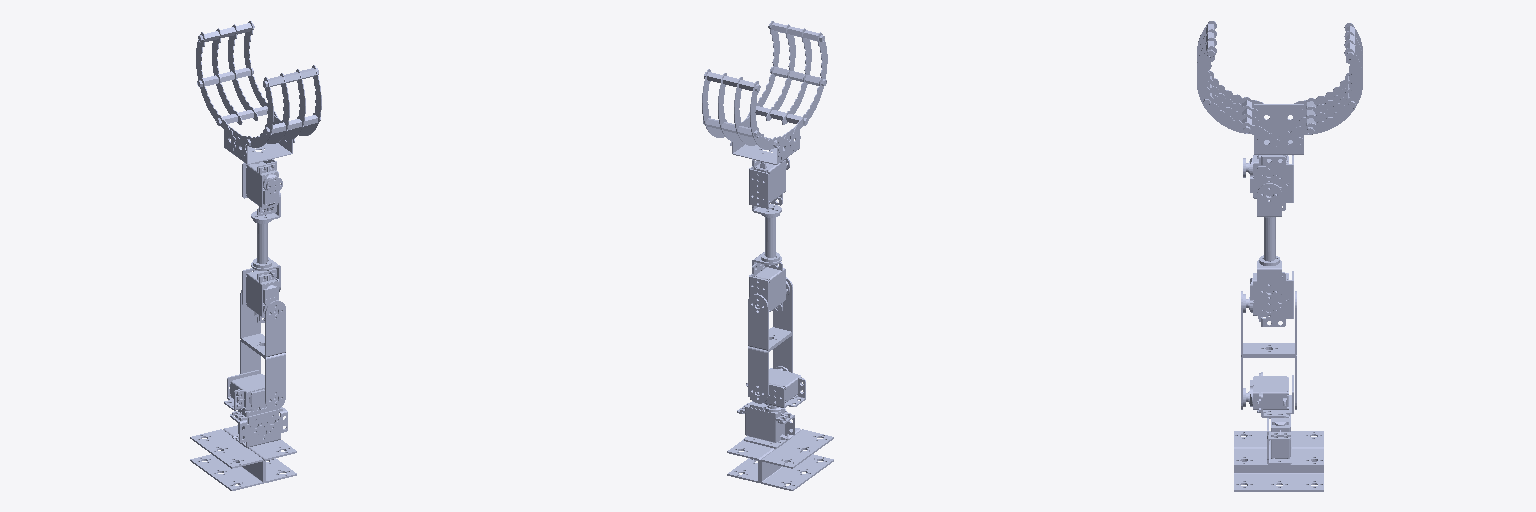
URDF robot description (reclaim_arm):
<?xml version="1.0" encoding="utf-8"?>
<!-- This URDF was automatically created by SolidWorks to URDF Exporter! Originally created by Stephen Brawner (brawner@gmail.com) 
     Commit Version: 1.6.0-4-g7f85cfe  Build Version: 1.6.7995.38578
     For more information, please see http://wiki.ros.org/sw_urdf_exporter -->
<robot
  name="reclaim_arm">
  <link
    name="base_link">
    <inertial>
      <origin
        xyz="0.00060581 -0.001246 -0.046464"
        rpy="0 0 0" />
      <mass
        value="0.07337" />
      <inertia
        ixx="3.2568E-05"
        ixy="5.8892E-09"
        ixz="3.9477E-08"
        iyy="1.9034E-05"
        iyz="1.6679E-07"
        izz="3.754E-05" />
    </inertial>
    <visual>
      <origin
        xyz="0 0 0"
        rpy="-1.5708 0 0" />
      <geometry>
        <mesh
          filename="meshes/base_link.STL" />
      </geometry>
      <material
        name="">
        <color
          rgba="0.79216 0.81961 0.93333 1" />
      </material>
    </visual>
    <collision>
      <origin
        xyz="0 0 0"
        rpy="-1.5708 0 0" />
      <geometry>
        <mesh
          filename="meshes/base_link.STL" />
      </geometry>
    </collision>
  </link>
  <link
    name="shoulder_link">
    <inertial>
      <origin
        xyz="0.00046002 -0.0098996 0.01241"
        rpy="0 0 0" />
      <mass
        value="0.037034" />
      <inertia
        ixx="2.9036E-06"
        ixy="3.9477E-08"
        ixz="-8.9959E-13"
        iyy="6.9967E-06"
        iyz="-1.6679E-07"
        izz="7.2467E-06" />
    </inertial>
    <visual>
      <origin
        xyz="0 0 0"
        rpy="0 0 0" />
      <geometry>
        <mesh
          filename="meshes/shoulder_link.STL" />
      </geometry>
      <material
        name="">
        <color
          rgba="0.79216 0.81961 0.93333 1" />
      </material>
    </visual>
    <collision>
      <origin
        xyz="0 0 0"
        rpy="0 0 0" />
      <geometry>
        <mesh
          filename="meshes/shoulder_link.STL" />
      </geometry>
    </collision>
  </link>
  <joint
    name="base_joint"
    type="revolute">
    <origin
      xyz="0 0 0"
      rpy="0 0 0" />
    <parent
      link="base_link" />
    <child
      link="shoulder_link" />
    <axis
      xyz="0 0 1" />
    <limit
      lower="-1.953"
      upper="3.230"
      effort="10"
      velocity="2" />
  </joint>
  <link
    name="upper_arm_link">
    <inertial>
      <origin
        xyz="1.3297E-14 -0.011444 0.052"
        rpy="0 0 0" />
      <mass
        value="0.016627" />
      <inertia
        ixx="1.6412E-05"
        ixy="1.486E-19"
        ixz="-6.5645E-21"
        iyy="7.5576E-06"
        iyz="-3.0563E-21"
        izz="1.0611E-05" />
    </inertial>
    <visual>
      <origin
        xyz="0 0 0"
        rpy="0 0 0" />
      <geometry>
        <mesh
          filename="meshes/upper_arm_link.STL" />
      </geometry>
      <material
        name="">
        <color
          rgba="0.79216 0.81961 0.93333 1" />
      </material>
    </visual>
    <collision>
      <origin
        xyz="0 0 0"
        rpy="0 0 0" />
      <geometry>
        <mesh
          filename="meshes/upper_arm_link.STL" />
      </geometry>
    </collision>
  </link>
  <joint
    name="shoulder_joint"
    type="revolute">
    <origin
      xyz="0.01 0 0.013402"
      rpy="0 0 0" />
    <parent
      link="shoulder_link" />
    <child
      link="upper_arm_link" />
    <axis
      xyz="0 -1 0" />
    <limit
      lower="-2.073"
      upper="1.597"
      effort="15"
      velocity="2" />
  </joint>
  <link
    name="forearm_link">
    <inertial>
      <origin
        xyz="0.0013458 -0.010048 0.074887"
        rpy="0 0 0" />
      <mass
        value="0.087067" />
      <inertia
        ixx="1.827E-05"
        ixy="3.3358E-07"
        ixz="1.6198E-12"
        iyy="1.7804E-05"
        iyz="7.3166E-16"
        izz="6.5989E-06" />
    </inertial>
    <visual>
      <origin
        xyz="0 0 0"
        rpy="0 0 0" />
      <geometry>
        <mesh
          filename="meshes/forearm_link.STL" />
      </geometry>
      <material
        name="">
        <color
          rgba="0.79216 0.81961 0.93333 1" />
      </material>
    </visual>
    <collision>
      <origin
        xyz="0 0 0"
        rpy="0 0 0" />
      <geometry>
        <mesh
          filename="meshes/forearm_link.STL" />
      </geometry>
    </collision>
  </link>
  <joint
    name="elbow_joint"
    type="revolute">
    <origin
      xyz="0 0 0.104"
      rpy="0 0 0" />
    <parent
      link="upper_arm_link" />
    <child
      link="forearm_link" />
    <axis
      xyz="0 1 0" />
    <limit
      lower="-1.508"
      upper="2.497"
      effort="10"
      velocity="2" />
  </joint>
  <link
    name="wrist_pitch_link">
    <inertial>
      <origin
        xyz="-0.024668 -0.011695 0.043013"
        rpy="0 0 0" />
      <mass
        value="0.10081" />
      <inertia
        ixx="5.5279E-05"
        ixy="-1.5687E-07"
        ixz="3.235E-09"
        iyy="2.0779E-05"
        iyz="-5.646E-08"
        izz="6.76E-05" />
    </inertial>
    <visual>
      <origin
        xyz="0 0 0"
        rpy="0 0 0" />
      <geometry>
        <mesh
          filename="meshes/wrist_pitch_link.STL" />
      </geometry>
      <material
        name="">
        <color
          rgba="0.79216 0.81961 0.93333 1" />
      </material>
    </visual>
    <collision>
      <origin
        xyz="0 0 0"
        rpy="0 0 0" />
      <geometry>
        <mesh
          filename="meshes/wrist_pitch_link.STL" />
      </geometry>
    </collision>
  </link>
  <joint
    name="wrist_pitch_joint"
    type="revolute">
    <origin
      xyz="0 0 0.147"
      rpy="0 0 0" />
    <parent
      link="forearm_link" />
    <child
      link="wrist_pitch_link" />
    <axis
      xyz="0 -1 0" />
    <limit
      lower="-1.932"
      upper="0.872"
      effort="10"
      velocity="2" />
  </joint>
  <link
    name="tool0">
    <inertial>
      <origin
        xyz="0.010754 -0.0010765 0.39245"
        rpy="0 0 0" />
      <mass
        value="0.037311" />
      <inertia
        ixx="2.0211E-05"
        ixy="-2.8835E-08"
        ixz="1.8401E-08"
        iyy="1.638E-05"
        iyz="-1.2682E-07"
        izz="1.1617E-05" />
    </inertial>
    <visual>
      <origin
        xyz="-0.01 0 -0.45672"
        rpy="0 0 0" />
      <geometry>
        <mesh
          filename="meshes/tool0.STL" />
      </geometry>
      <material
        name="">
        <color
          rgba="0.79216 0.81961 0.93333 1" />
      </material>
    </visual>
    <collision>
      <origin
        xyz="-0.01 0 -0.45672"
        rpy="0 0 0" />
      <geometry>
        <mesh
          filename="meshes/tool0.STL" />
      </geometry>
    </collision>
  </link>
  <joint
    name="wrist_to_tool0"
    type="fixed">
    <origin
      xyz="0 0 0.150"
      rpy="0 0 0" />
    <parent
      link="wrist_pitch_link" />
    <child
      link="tool0" />
    <axis
      xyz="0 0 0" />
  </joint>
  <!-- ══════════════════════════════════════════════════ -->
  <!-- Gripper: child of tool0, OUTSIDE MoveIt2 chain   -->
  <!-- 0 rad = fully open (1400µs)                      -->
  <!-- 0.836 rad = fully closed (1755µs)                -->
  <!-- ══════════════════════════════════════════════════ -->
  <link name="gripper_link">
    <inertial>
      <origin xyz="0 0 0.02" rpy="0 0 0"/>
      <mass value="0.142"/>
      <inertia ixx="1e-5" ixy="0" ixz="0" iyy="1e-5" iyz="0" izz="1e-5"/>
    </inertial>
  </link>
  <joint name="gripper_joint" type="revolute">
    <origin xyz="0 0 0" rpy="0 0 0"/>
    <parent link="tool0"/>
    <child link="gripper_link"/>
    <axis xyz="0 0 1"/>
    <limit lower="0.0" upper="0.836" effort="5" velocity="2"/>
  </joint>

  <!-- ══════════════════════════════════════════════════ -->
  <!-- Camera: OAK-D Lite mounted on wrist_pitch_link   -->
  <!-- Offset measured from CAD: (-55mm, -12mm, +64mm)  -->
  <!-- Camera looks along wrist_pitch_link Z axis       -->
  <!-- ══════════════════════════════════════════════════ -->
  <link name="camera_link">
    <inertial>
      <origin xyz="0 0 0" rpy="0 0 0"/>
      <mass value="0.061"/>
      <inertia ixx="1e-5" ixy="0" ixz="0" iyy="1e-5" iyz="0" izz="1e-5"/>
    </inertial>
  </link>
  <joint name="wrist_to_camera" type="fixed">
    <origin xyz="-0.068 -0.012 0.064" rpy="0 0 0"/>
    <parent link="wrist_pitch_link"/>
    <child link="camera_link"/>
  </joint>

  <!-- Optical frame: camera_link has Z=forward (along arm) -->
  <!--   camera_optical_frame: X right, Y down, Z forward  -->
  <!--   Rotation maps: Z_cam→Z_opt, -Y_cam→X_opt, -X_cam→Y_opt -->
  <!--   This may need tuning if image appears flipped      -->
  <link name="camera_optical_frame"/>
  <joint name="camera_to_optical" type="fixed">
    <origin xyz="0 0 0" rpy="0 0 -1.5708"/>
    <parent link="camera_link"/>
    <child link="camera_optical_frame"/>
  </joint>

  <!-- ══════════════════════════════════════════════════ -->
  <!-- ros2_control: Servo Hardware Interface            -->
  <!-- Calibration from March 19, 2026                   -->
  <!-- ══════════════════════════════════════════════════ -->
  <ros2_control name="servo_hardware" type="system">
    <hardware>
      <plugin>reclaim_servo_hardware/ServoHardwareInterface</plugin>
      <param name="serial_port">/tmp/teensy_arm</param>
      <param name="baud_rate">115200</param>
    </hardware>

    <!-- J1 Base — DS3218 270° — not inverted -->
    <joint name="base_joint">
      <command_interface name="position"/>
      <state_interface name="position"/>
      <param name="zero_us">1229</param>
      <param name="scale">0.002356</param>
      <param name="inverted">false</param>
      <param name="min_us">400</param>
      <param name="max_us">2600</param>
    </joint>

    <!-- J2 Shoulder — DS3240 270° — not inverted (axis 0 -1 0) -->
    <joint name="shoulder_joint">
      <command_interface name="position"/>
      <state_interface name="position"/>
      <param name="zero_us">1673</param>
      <param name="scale">0.002356</param>
      <param name="inverted">false</param>
      <param name="min_us">995</param>
      <param name="max_us">2553</param>
    </joint>

    <!-- J3 Elbow — DS3218 270° — not inverted -->
    <joint name="elbow_joint">
      <command_interface name="position"/>
      <state_interface name="position"/>
      <param name="zero_us">1320</param>
      <param name="scale">0.002356</param>
      <param name="inverted">false</param>
      <param name="min_us">680</param>
      <param name="max_us">2380</param>
    </joint>

    <!-- J4 Wrist Pitch — DS3218 270° — not inverted (axis 0 -1 0) -->
    <joint name="wrist_pitch_joint">
      <command_interface name="position"/>
      <state_interface name="position"/>
      <param name="zero_us">2230</param>
      <param name="scale">0.002356</param>
      <param name="inverted">false</param>
      <param name="min_us">1410</param>
      <param name="max_us">2600</param>
    </joint>

    <!-- J6 Gripper — DS3218 + LewanSoul claw -->
    <!-- 0 rad = fully open (1400µs), 0.836 rad = fully closed (1755µs) -->
    <joint name="gripper_joint">
      <command_interface name="position"/>
      <state_interface name="position"/>
      <param name="zero_us">1400</param>
      <param name="scale">0.002356</param>
      <param name="inverted">false</param>
      <param name="min_us">1400</param>
      <param name="max_us">1755</param>
    </joint>
  </ros2_control>

</robot>

--- Render facts (derived) ---
3 views of the same robot in one strip: view 1: azimuth 30°, elevation 25°; view 2: azimuth 150°, elevation 25°; view 3: azimuth 270°, elevation 25° (orthographic).
Model reclaim_arm with 9 links and 8 joints (5 revolute, 3 fixed), rooted at base_link, posed all joints at 0.
Links seen in each view (by area): view 1: tool0, base_link, forearm_link, upper_arm_link, shoulder_link; view 2: tool0, base_link, forearm_link, upper_arm_link, shoulder_link; view 3: tool0, base_link, forearm_link, shoulder_link, upper_arm_link.
Link boxes in pixels (x1,y1,x2,y2): tool0: (196, 21, 321, 164); base_link: (190, 406, 296, 490); forearm_link: (242, 159, 282, 323); upper_arm_link: (240, 290, 285, 409); shoulder_link: (224, 370, 281, 410); tool0: (702, 21, 827, 164); base_link: (727, 401, 833, 490); forearm_link: (749, 151, 789, 312); upper_arm_link: (748, 277, 792, 403); shoulder_link: (746, 366, 805, 407); tool0: (1197, 21, 1362, 154); base_link: (1234, 414, 1323, 491); forearm_link: (1243, 155, 1293, 326); shoulder_link: (1243, 372, 1293, 417); upper_arm_link: (1241, 291, 1296, 409).
Size in the robot's own frame: 0.094 by 0.1675 by 0.4972 metres.
5 mesh visuals loaded from 6 distinct referenced files (5 binary STL); not drawn: 1 (reference not matched to a file when rendering).
